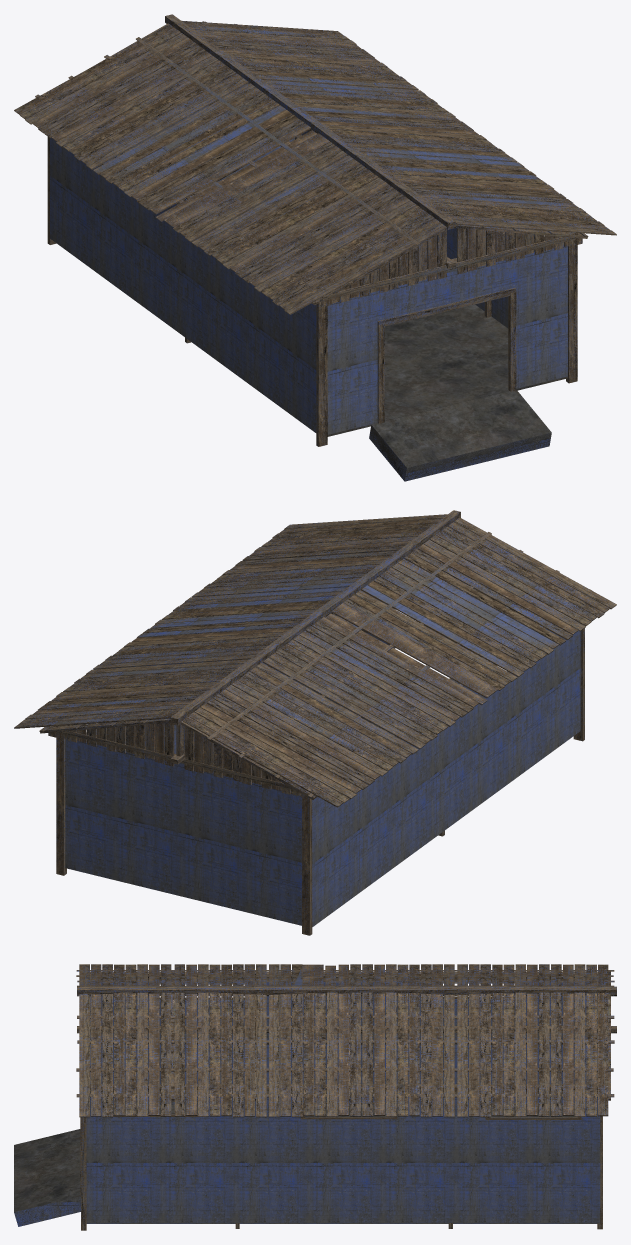
File: shed.fbx
3 views of the same model, one above another, from view 1: azimuth 30°, elevation 25°; view 2: azimuth 150°, elevation 25°; view 3: azimuth 270°, elevation 25° (orthographic). The views are drawn at different scales.
Parts seen in each view (by area): view 1: Group1; view 2: Group1; view 3: Group1.
Boxes of the visible parts, x1=… form: Group1: x1=14, y1=14, x2=616, y2=481; Group1: x1=14, y1=510, x2=616, y2=935; Group1: x1=14, y1=964, x2=616, y2=1230.
Size of the model in its own units: 393 by 250 by 657.
